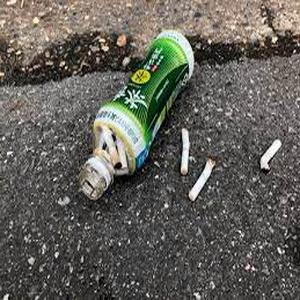Plastic: (78, 28, 178, 197)
